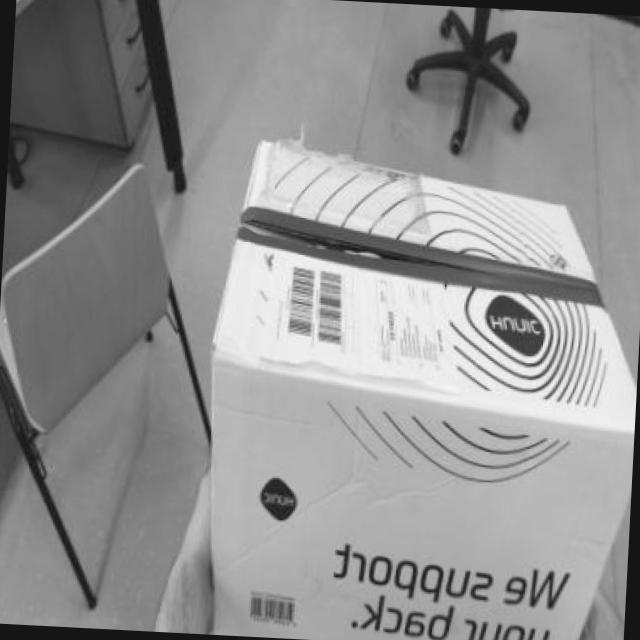box: (131, 114, 640, 640)
